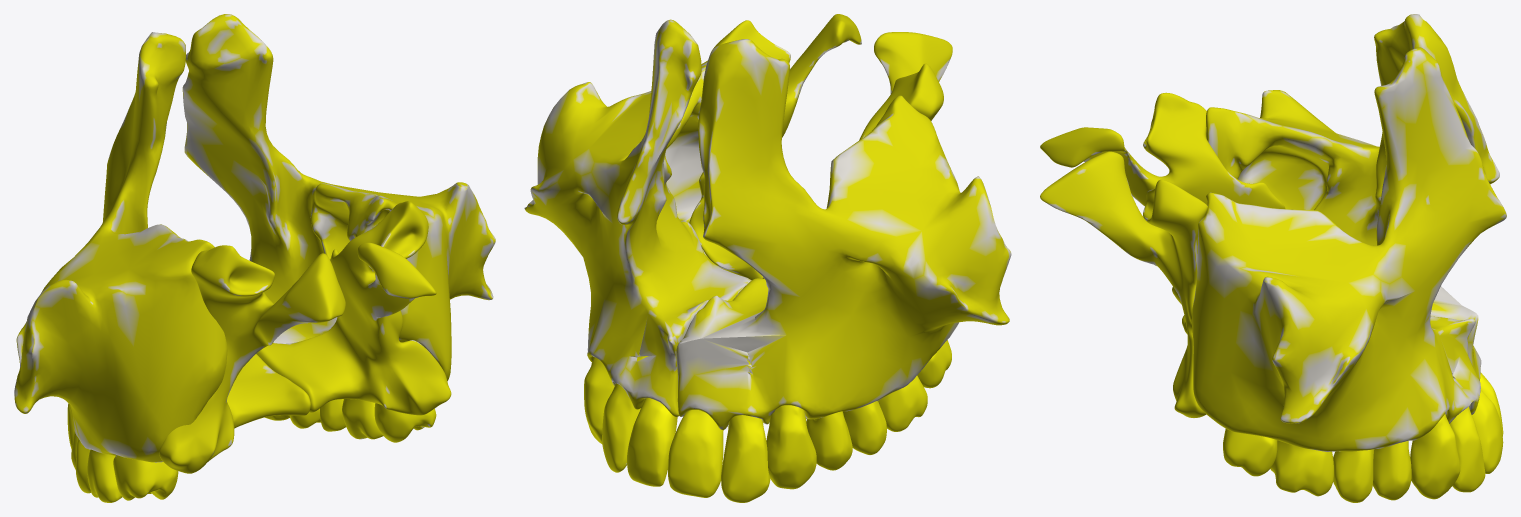
File: maxilla_with_upper_teeth.glb
3 views of the same model, side by side, from view 1: azimuth 30°, elevation 25°; view 2: azimuth 150°, elevation 25°; view 3: azimuth 270°, elevation 25° (orthographic).
Parts seen in each view (by area): view 1: maxilla_L, maxilla_R, palatine_bone_R, palatine_bone_L, tooth_U7_L, tooth_U7_R, tooth_U6_L, tooth_U6_R, tooth_U5_R, tooth_U5_L; view 2: maxilla_L, maxilla_R, palatine_bone_L, palatine_bone_R, tooth_U1_L, tooth_U2_L, tooth_U3_L, tooth_U1_R, tooth_U2_R, tooth_U4_L, tooth_U5_L, tooth_U6_L (+2 smaller); view 3: maxilla_R, maxilla_L, palatine_bone_R, palatine_bone_L, tooth_U3_R, tooth_U6_R, tooth_U2_R, tooth_U4_R, tooth_U5_R, tooth_U7_R, tooth_U1_R.
Boxes of the visible parts, box(x1,y1,x2,y2) form: maxilla_L: box(14, 32, 227, 462); maxilla_R: box(182, 14, 495, 380); palatine_bone_R: box(256, 201, 451, 415); palatine_bone_L: box(159, 245, 345, 473); tooth_U7_L: box(113, 455, 178, 500); tooth_U7_R: box(374, 403, 436, 442); tooth_U6_L: box(87, 449, 151, 502); tooth_U6_R: box(342, 399, 383, 439); tooth_U5_R: box(320, 399, 345, 431); tooth_U5_L: box(75, 439, 90, 493); maxilla_L: box(676, 39, 1011, 429); maxilla_R: box(524, 19, 751, 416); palatine_bone_L: box(762, 32, 952, 278); palatine_bone_R: box(689, 14, 861, 280); tooth_U1_L: box(668, 410, 723, 497); tooth_U2_L: box(721, 353, 770, 502); tooth_U3_L: box(766, 405, 816, 489); tooth_U1_R: box(627, 398, 677, 486); tooth_U2_R: box(602, 354, 647, 472); tooth_U4_L: box(806, 411, 852, 470); tooth_U5_L: box(843, 401, 886, 454); tooth_U6_L: box(878, 375, 927, 431); maxilla_R: box(1191, 47, 1506, 451); maxilla_L: box(1206, 14, 1499, 380); palatine_bone_R: box(1040, 151, 1207, 417); palatine_bone_L: box(1040, 92, 1285, 327); tooth_U3_R: box(1410, 414, 1460, 499); tooth_U6_R: box(1270, 440, 1333, 496); tooth_U2_R: box(1449, 406, 1485, 492); tooth_U4_R: box(1373, 441, 1411, 500); tooth_U5_R: box(1333, 449, 1373, 502); tooth_U7_R: box(1223, 429, 1277, 476); tooth_U1_R: box(1472, 391, 1503, 473).
Bounding box in the file's own units: 0.0933 × 0.0816 × 0.0806.
